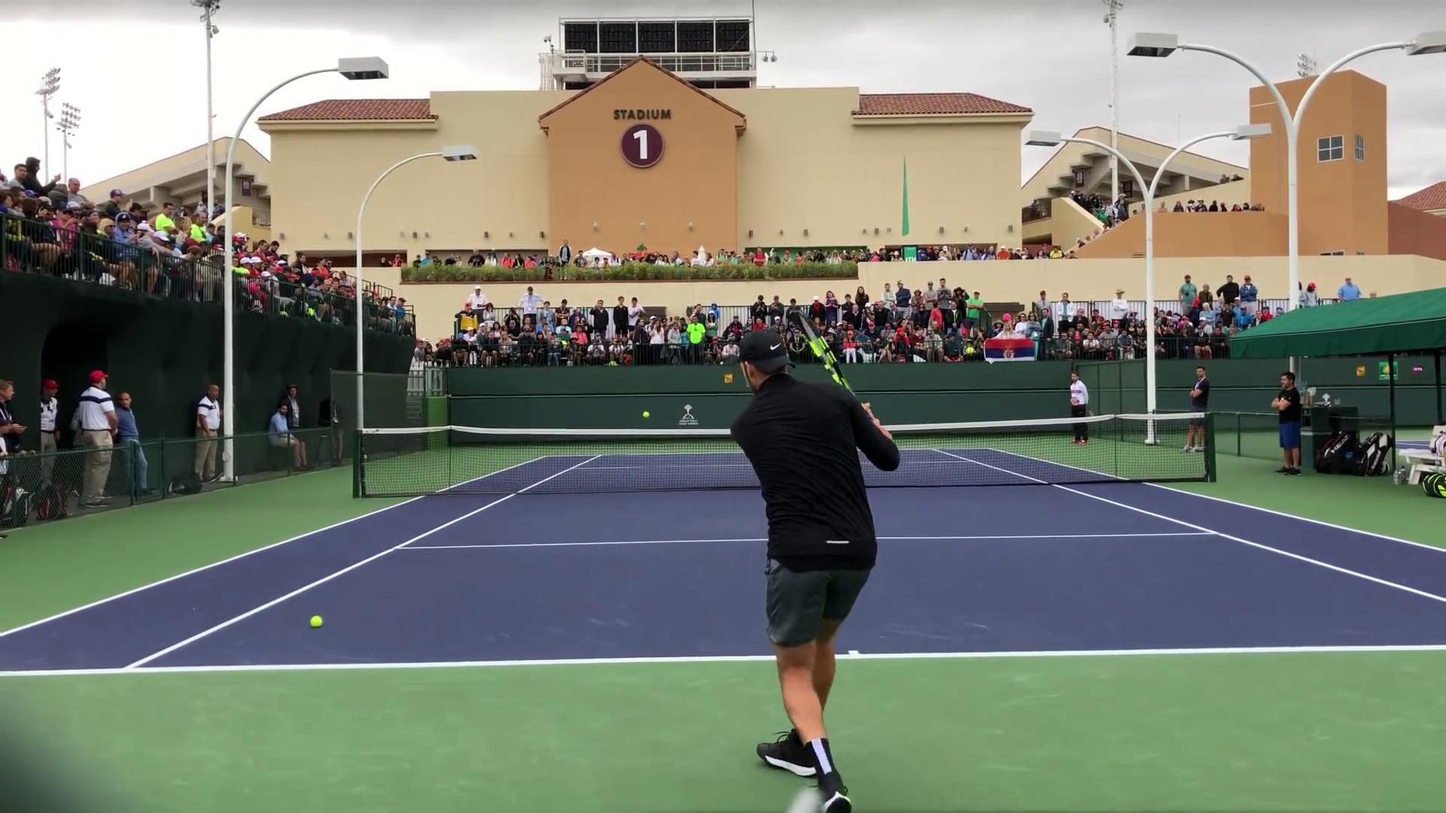ball: (309, 614, 325, 629), (640, 410, 652, 420)
